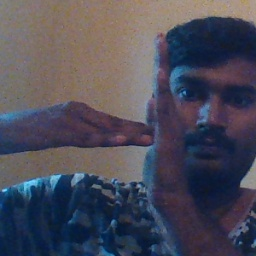Z: (68, 27, 189, 195)
